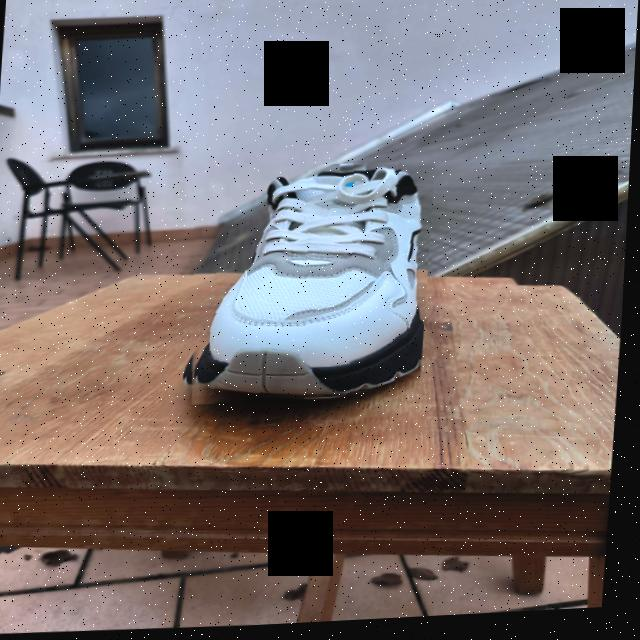shoe: (183, 161, 437, 411)
